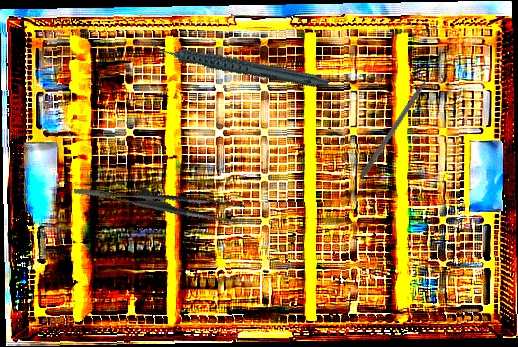Handpiece: (148, 4, 330, 124)
Pusher: (358, 62, 441, 181)
Tissue Forceps: (73, 159, 246, 240)
